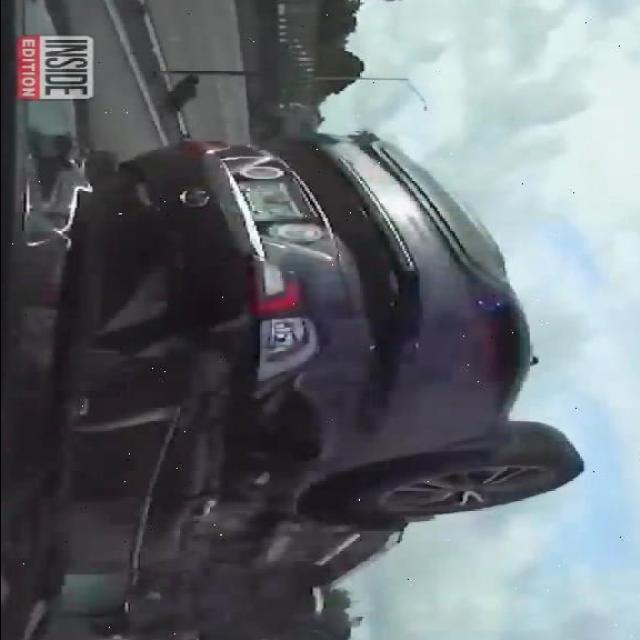accident: (72, 128, 564, 640)
